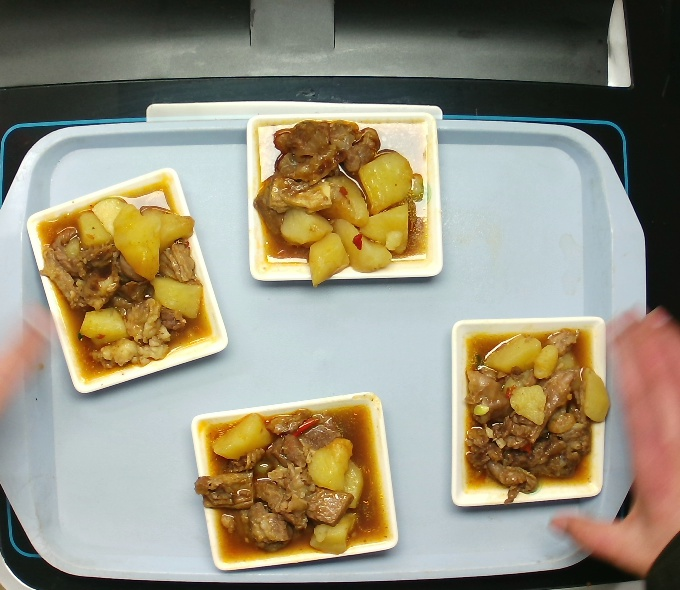wcq-TuDouNiuNan: (28, 181, 219, 378), (194, 398, 389, 569), (250, 116, 438, 284), (460, 326, 612, 508)
